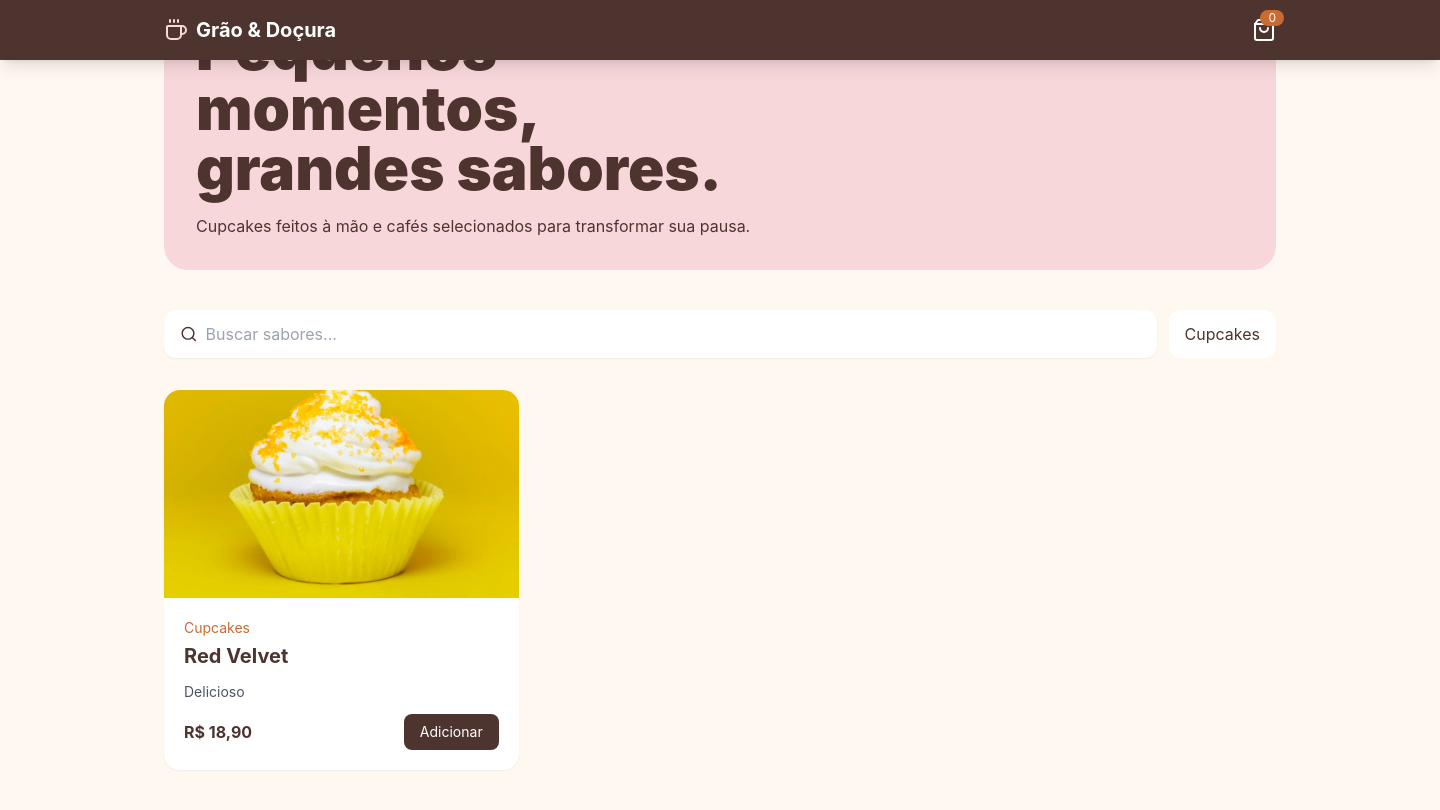
Scenario: customer storefront › adds a product to cart
(page scrolled)
Step 1. Click the button "Adicionar" → (451, 732), box [404, 714, 499, 750]
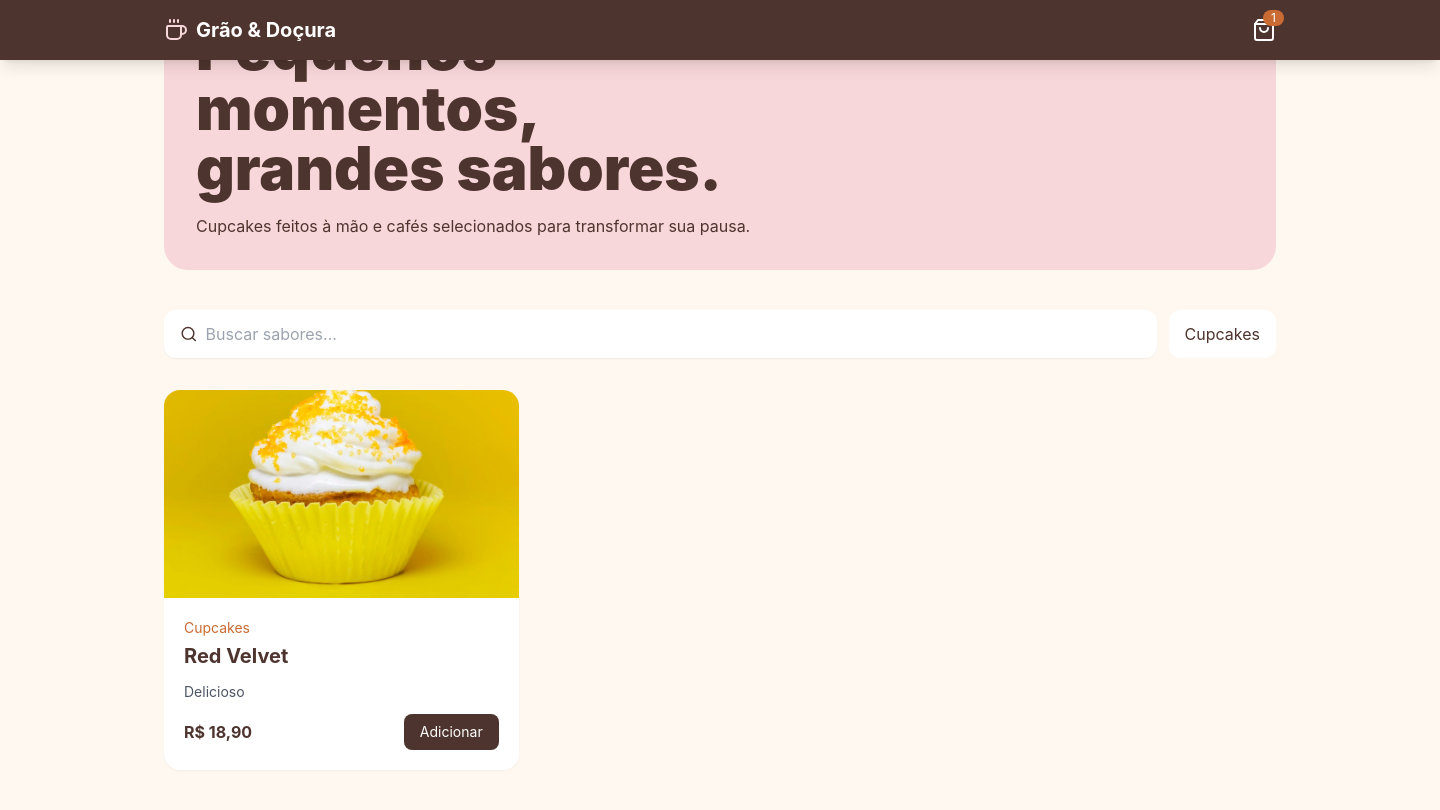
Result: the button named "Abrir carrinho" reads "1" at [1252, 18, 1276, 42]
